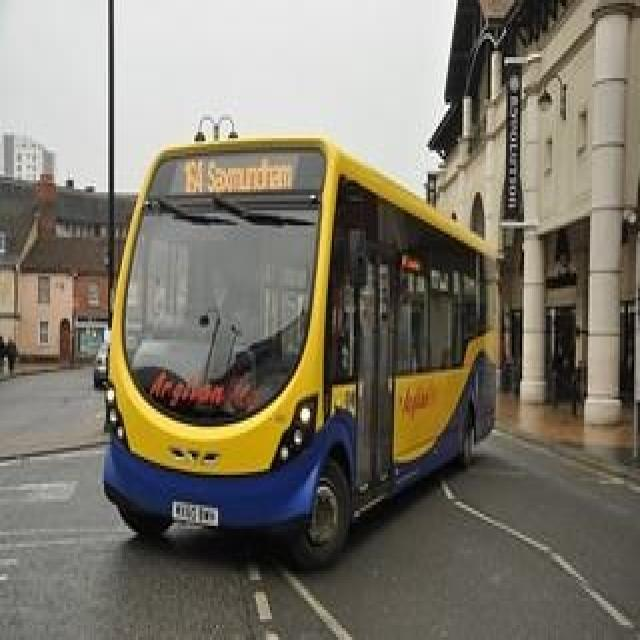Bus: (99, 131, 506, 579)
